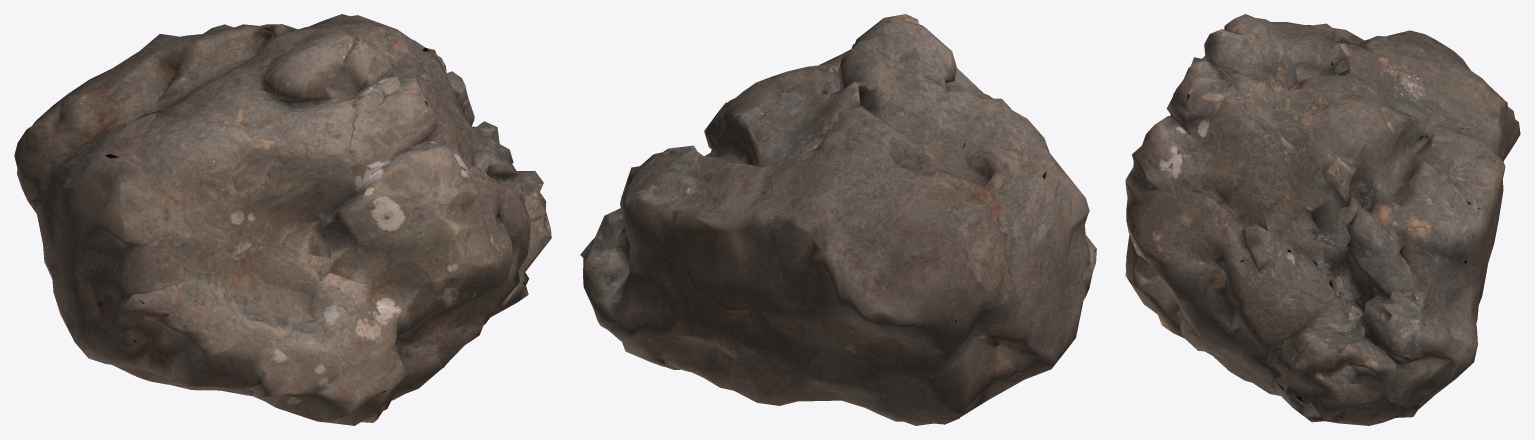
The model's file is SM_xiicefs_tier_2.gltf.
3 renders of one model, left to right at view 1: azimuth 30°, elevation 25°; view 2: azimuth 150°, elevation 25°; view 3: azimuth 270°, elevation 25°, orthographic. The views are drawn at different scales.
Parts seen in each view (by area): view 1: xiicefs_LOD2_TIER2_000; view 2: xiicefs_LOD2_TIER2_000; view 3: xiicefs_LOD2_TIER2_000.
Boxes of the visible parts, x1,y1,x2,y2 form: xiicefs_LOD2_TIER2_000: [14, 14, 551, 425]; xiicefs_LOD2_TIER2_000: [580, 14, 1096, 425]; xiicefs_LOD2_TIER2_000: [1125, 14, 1520, 425].
Size of the model in its own units: 0.7666 by 0.5526 by 0.6112.
1 material, 1 textured.
